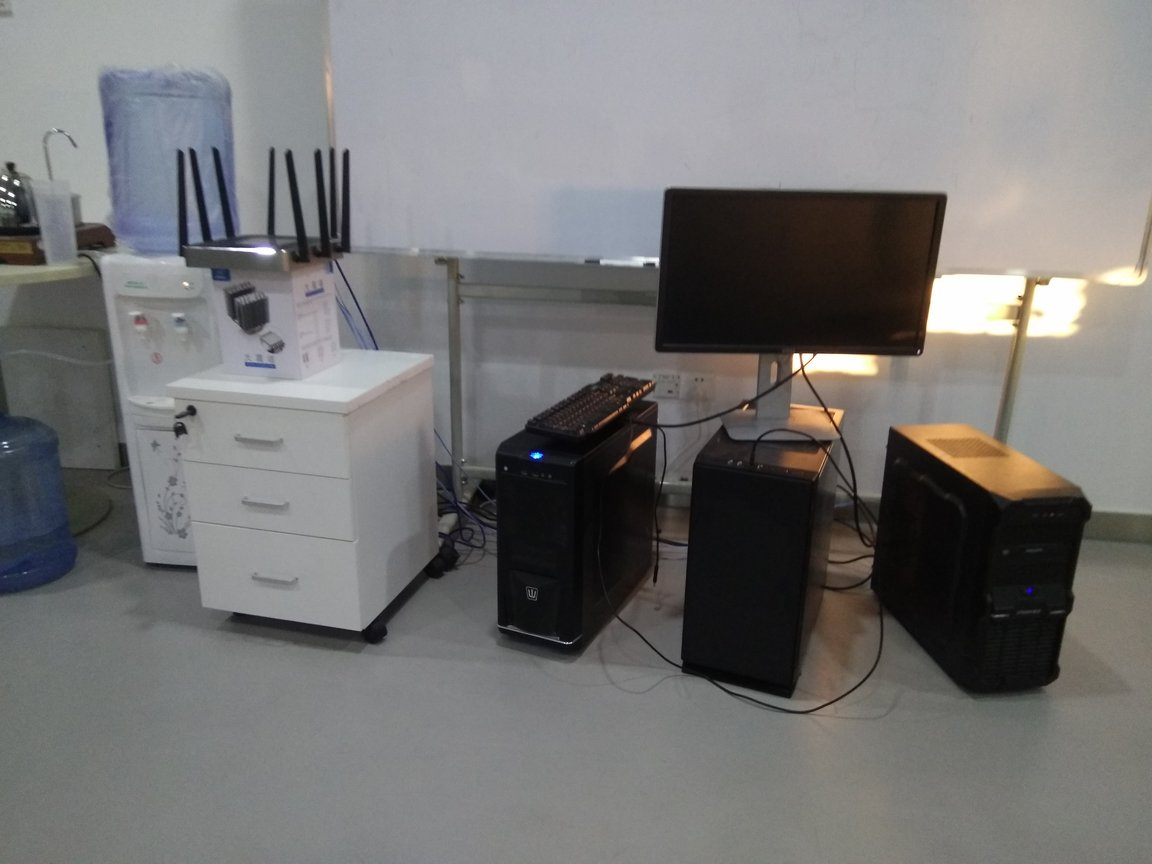computer: (484, 391, 665, 663), (693, 396, 835, 705)
drawer chest: (172, 346, 437, 658)
monitor: (649, 170, 943, 444), (876, 416, 1074, 704)
scuttlebutt: (78, 66, 244, 255), (1, 380, 85, 610)
water dispenser: (99, 250, 238, 562)
